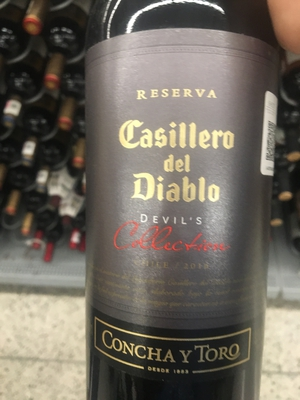casillero del diablo devils collection rojo: (80, 1, 283, 400)
